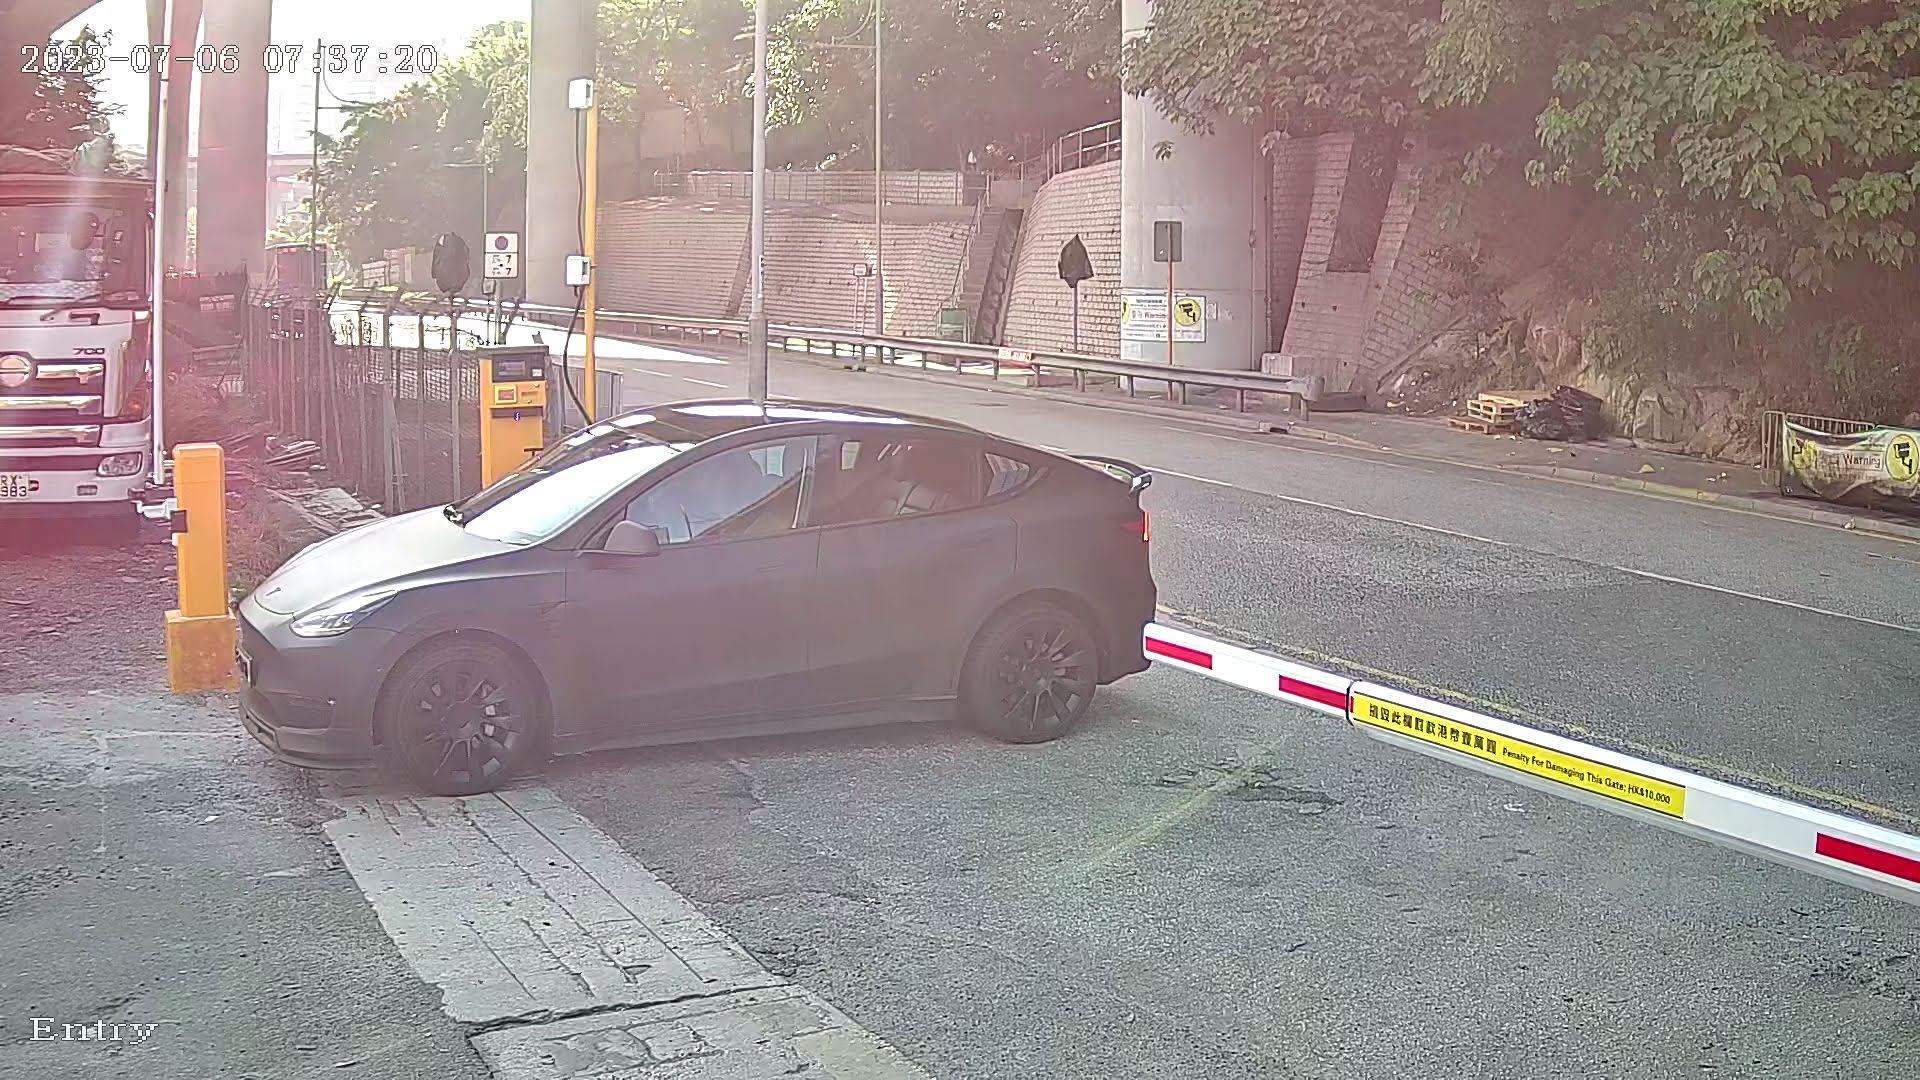privatecar: (204, 342, 1207, 791)
